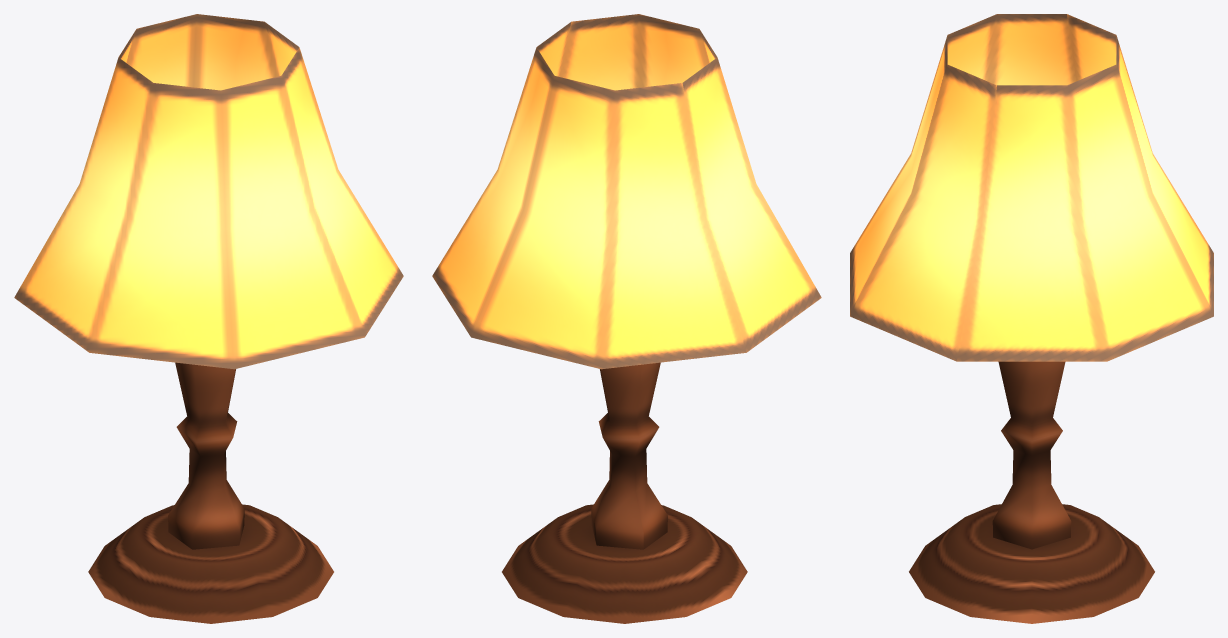
The model's file is ELT0110007.fbx.
The picture shows the model from 3 angles, left to right: view 1: azimuth 30°, elevation 25°; view 2: azimuth 150°, elevation 25°; view 3: azimuth 270°, elevation 25°; orthographic projection.
Visible parts, largest first — view 1: smELT0110007; view 2: smELT0110007; view 3: smELT0110007.
Part boxes in pixels (box(x1,y1,x2,y2)): smELT0110007: box(14, 14, 403, 623); smELT0110007: box(432, 14, 821, 623); smELT0110007: box(850, 14, 1213, 623).
Size of the model in its own units: 38.84 by 61.39 by 38.84.
Materials: 1 (1 with a texture image).
